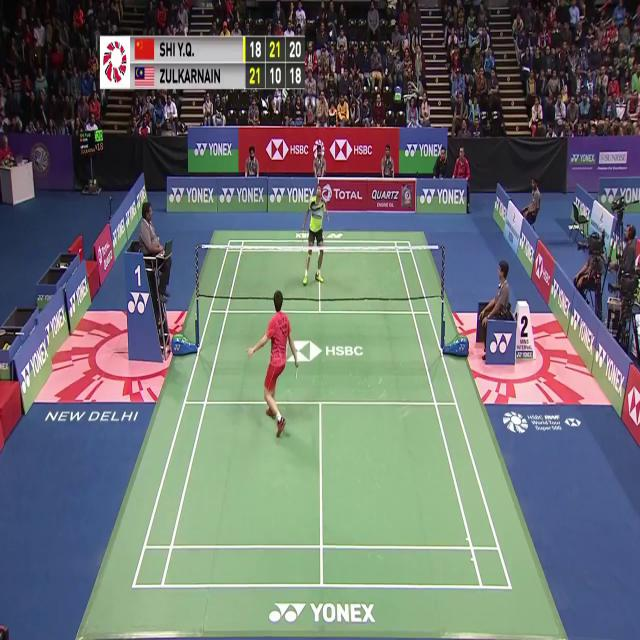Shuttlecock: (328, 26, 335, 38)
